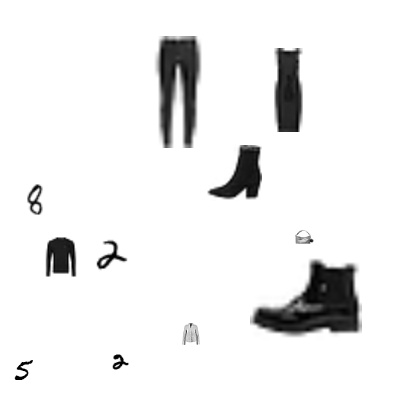2: (88, 234, 130, 276), (108, 351, 130, 373)
5: (9, 356, 37, 384)
8: (14, 177, 56, 219)
Ankle_boot: (250, 244, 362, 356), (206, 145, 262, 201)
Bag: (293, 230, 315, 252)
Dress: (245, 48, 329, 132)
Pullover: (40, 236, 82, 278)
Shirt: (180, 323, 202, 345)
Trouser: (120, 36, 232, 148)
